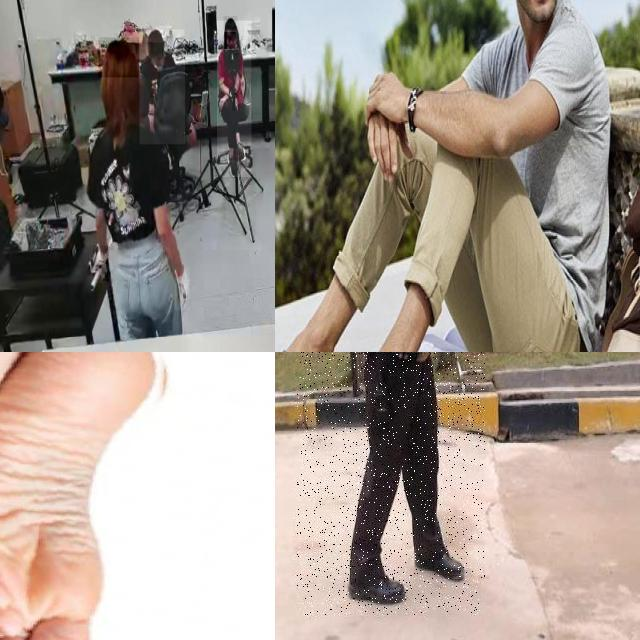Barefoots: (0, 352, 163, 640)
boots: (347, 566, 408, 607), (413, 544, 466, 581)
face_nomask: (224, 32, 236, 50)
hand_glove: (174, 268, 190, 311), (93, 245, 110, 282)
hand_noglove: (233, 94, 239, 112), (218, 95, 224, 113)
head_nohelmet: (99, 38, 140, 78), (146, 28, 164, 44), (224, 16, 238, 30)
person: (296, 352, 485, 615), (84, 44, 187, 340), (217, 20, 252, 178), (139, 30, 185, 144)
